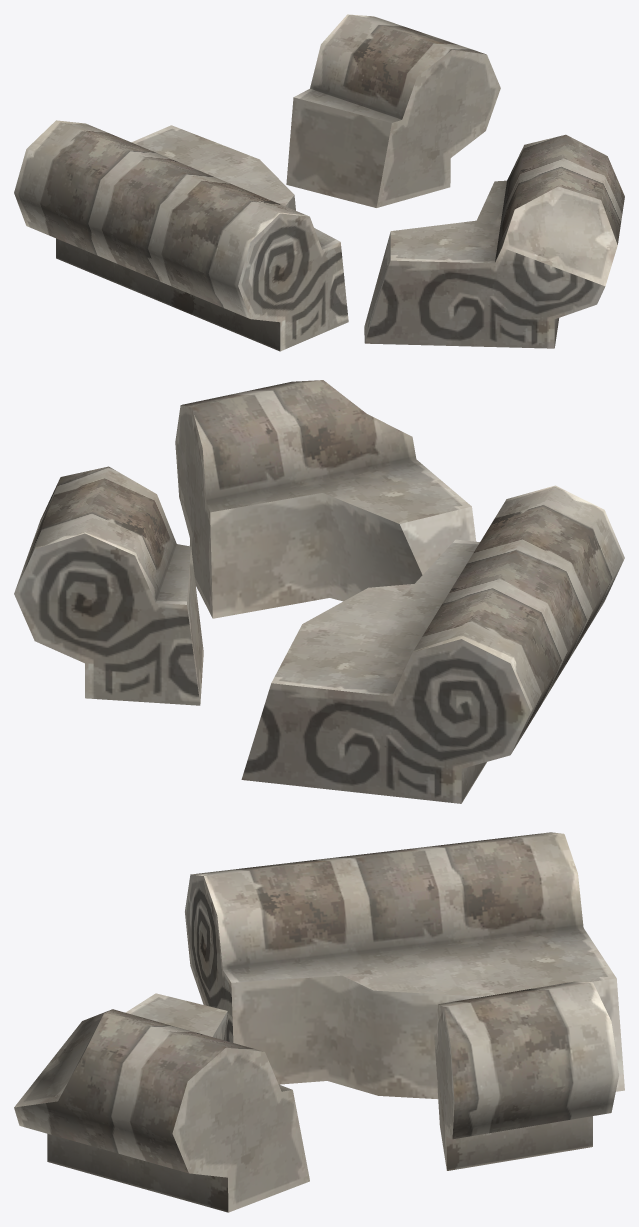
File: Toon_Column_01_Base_Broken.fbx
The picture shows the model from 3 angles, top to bottom: view 1: azimuth 30°, elevation 25°; view 2: azimuth 150°, elevation 25°; view 3: azimuth 270°, elevation 25°; orthographic projection. The views are drawn at different scales.
Parts seen in each view (by area): view 1: Toon_Column_01_Base_Broken; view 2: Toon_Column_01_Base_Broken; view 3: Toon_Column_01_Base_Broken.
Boxes of the visible parts, x1,y1,x2,y2 form: Toon_Column_01_Base_Broken: (14, 14, 624, 351); Toon_Column_01_Base_Broken: (14, 380, 624, 803); Toon_Column_01_Base_Broken: (14, 832, 624, 1212).
Size of the model in its own units: 6.43 by 2.18 by 6.29.
